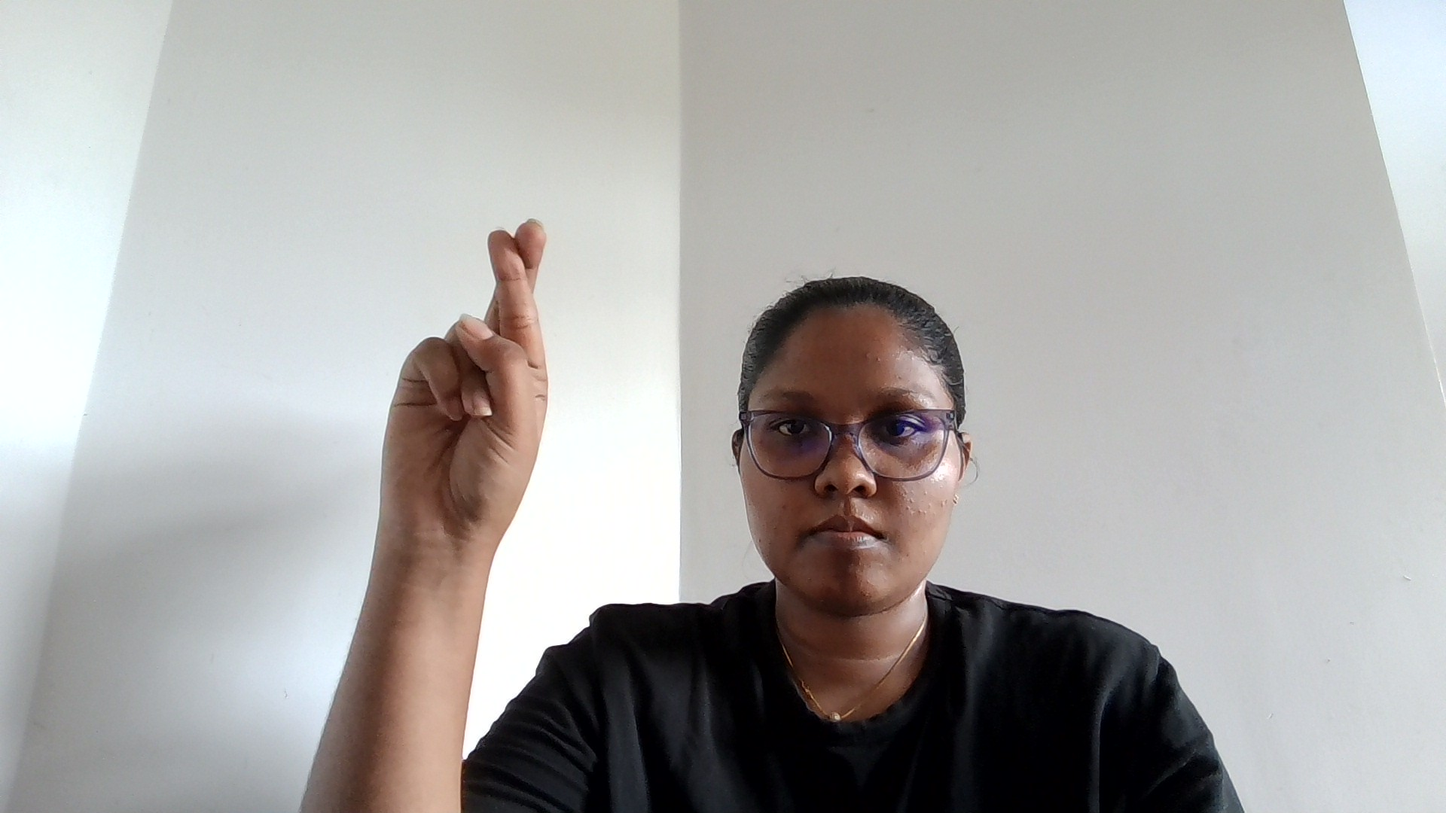Good_Luck: (243, 160, 631, 718)
